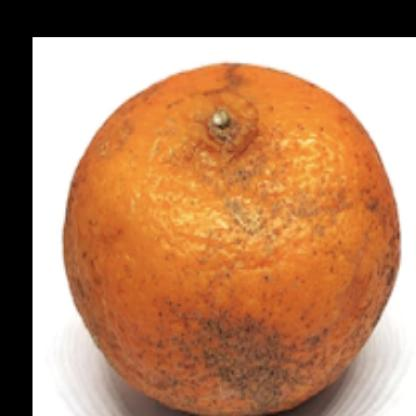rotten: (61, 60, 403, 416)
